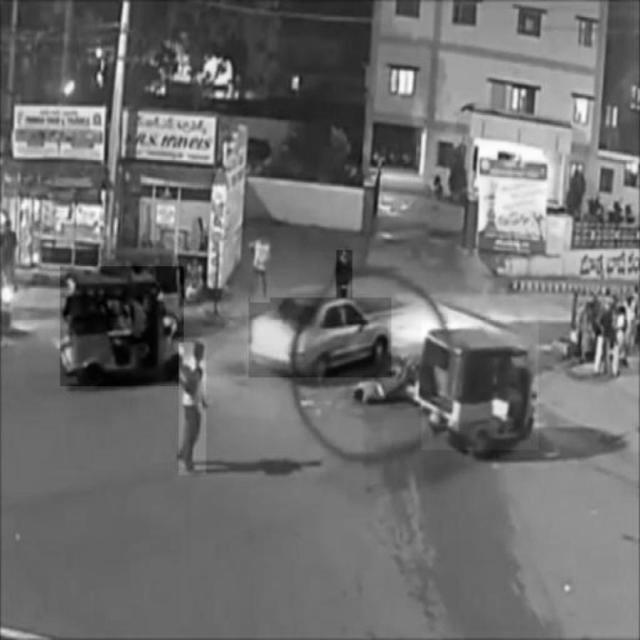person: (179, 343, 206, 475), (251, 237, 271, 303), (336, 250, 352, 300)
vehicle: (60, 267, 184, 387), (422, 324, 540, 450), (249, 298, 391, 378)
